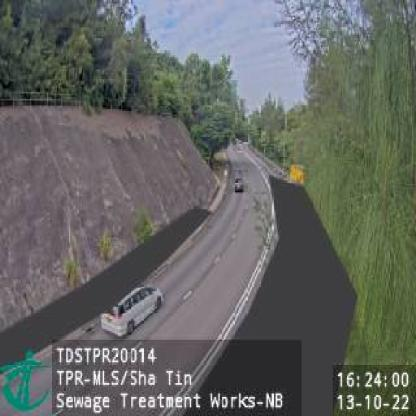Car: (101, 282, 162, 338), (232, 177, 244, 193)
